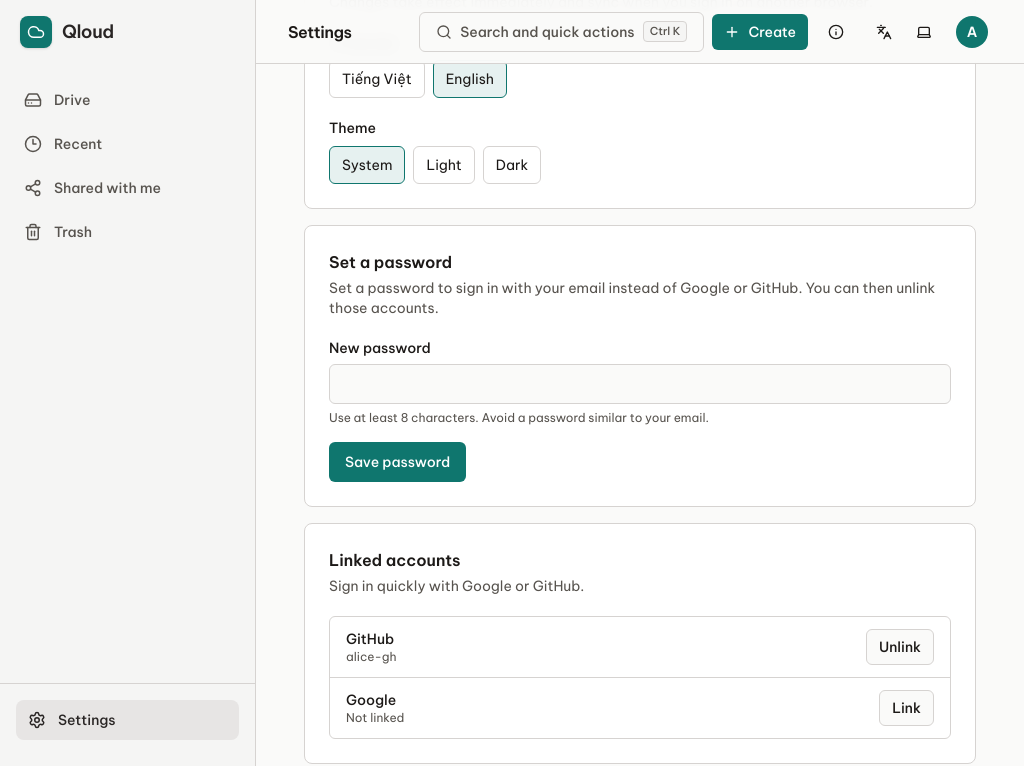
Test: settings (S-13) › lets an OAuth-only account set a password without the current one
(page scrolled)
Expected: the heading "Set a password" is shown, [329,252,452,272]
Expected: the field labelled "Current password" is not shown
In the password field labelled "New password": (640, 384) [329,364,951,404], type "qloud-new-password"
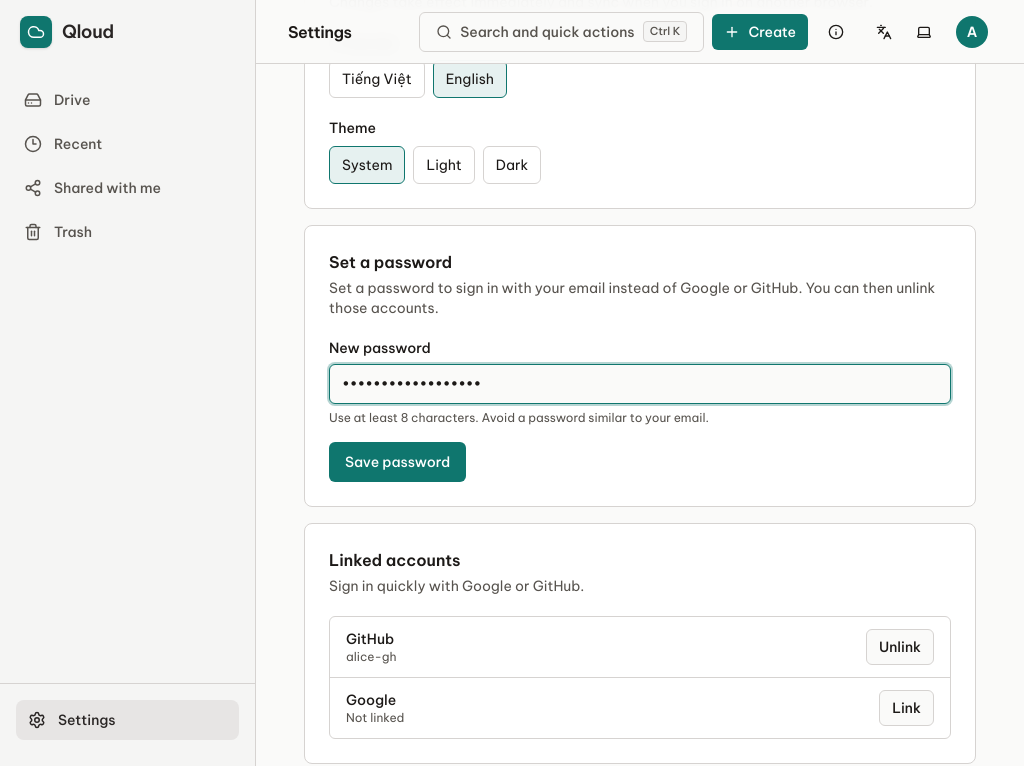
Click the button "Save password": (398, 462) [329,442,466,482]
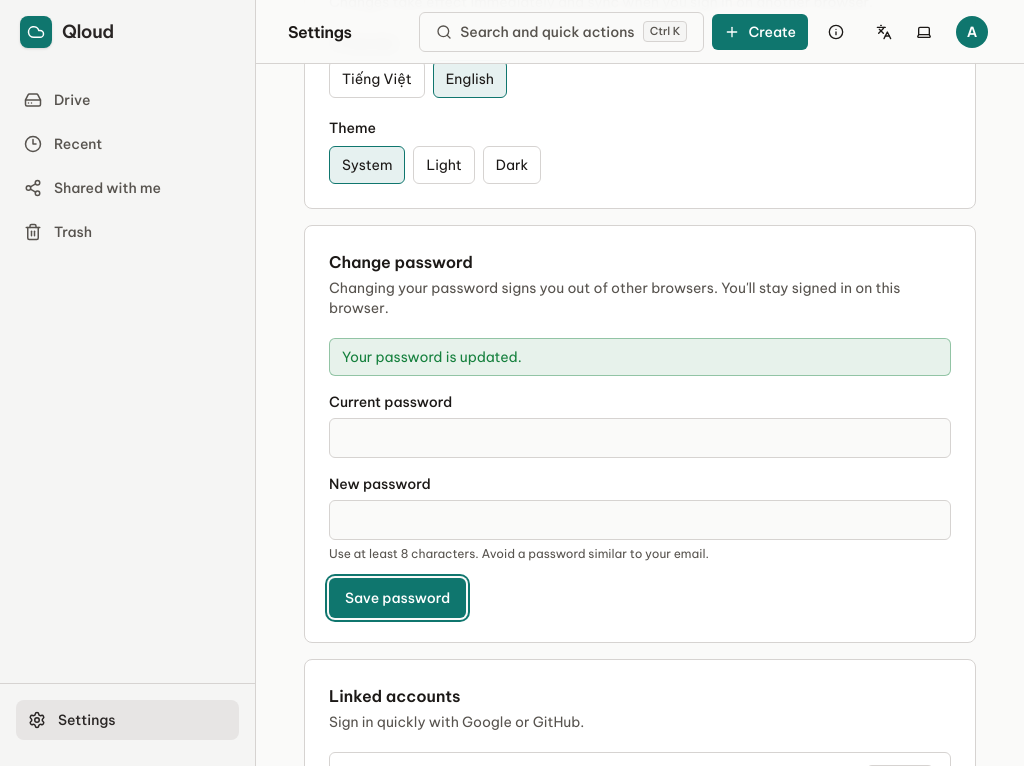
Expected: the heading "Change password" is shown, [329,252,473,272]
